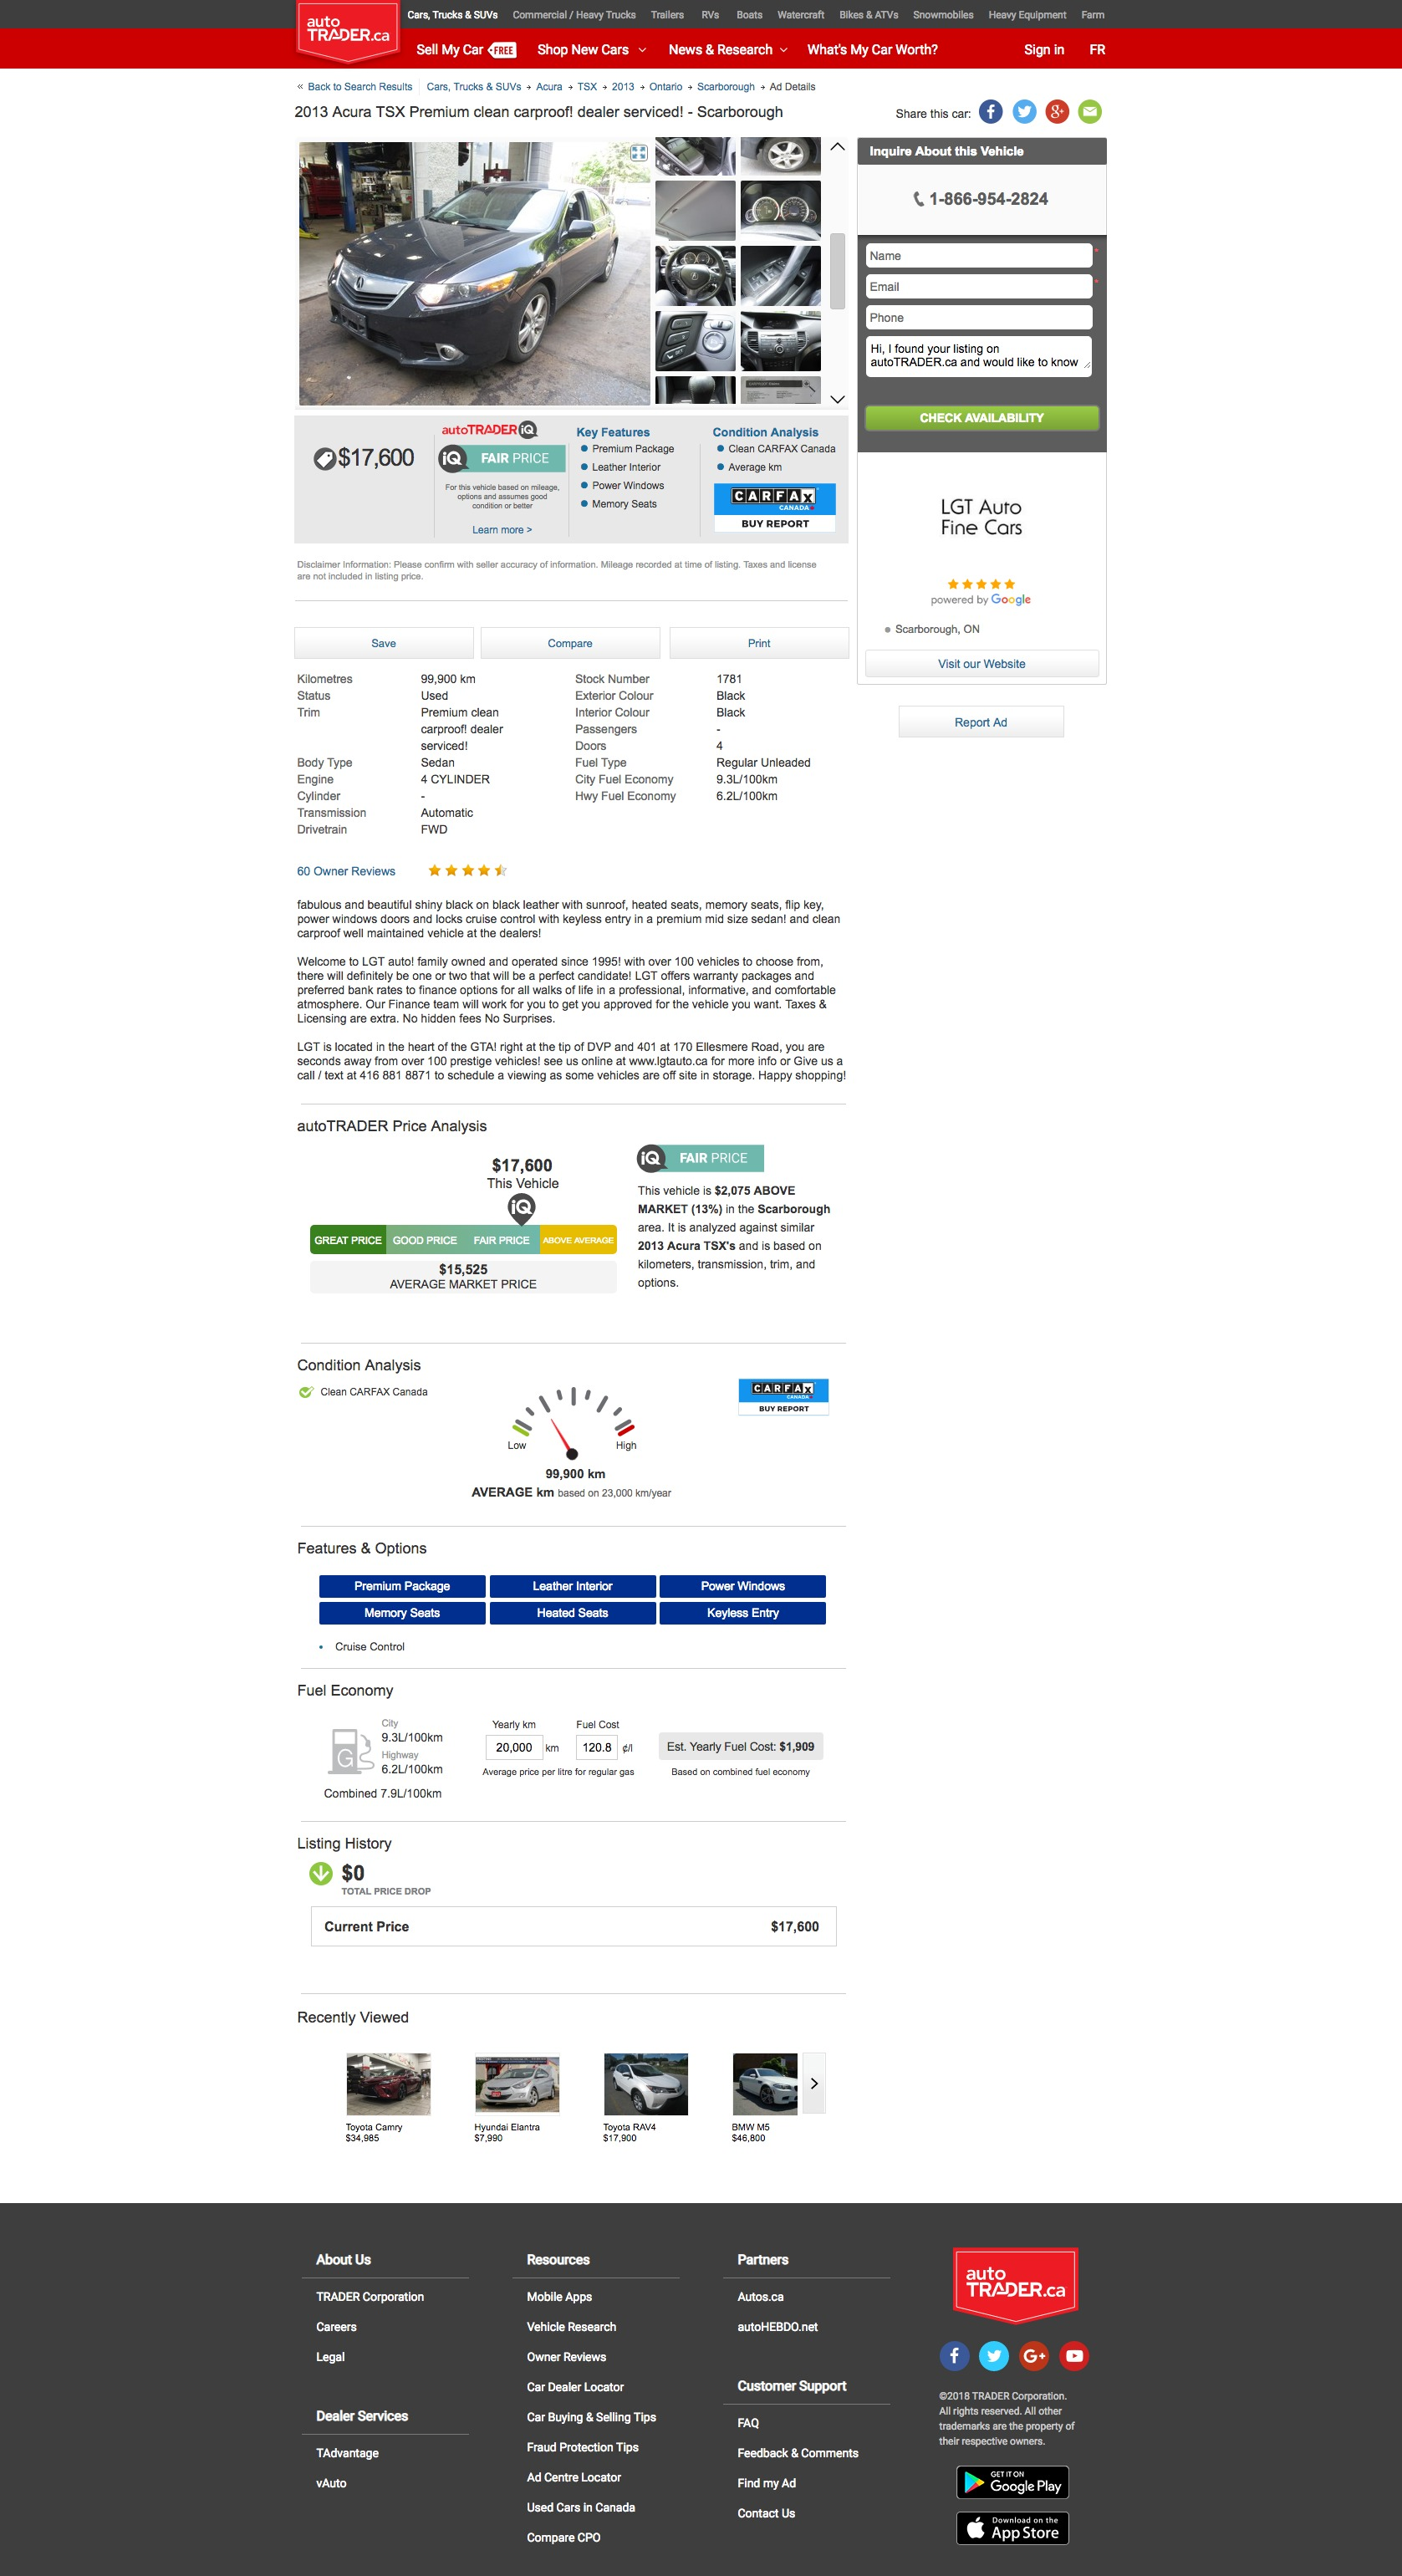car: (829, 392, 846, 407)
